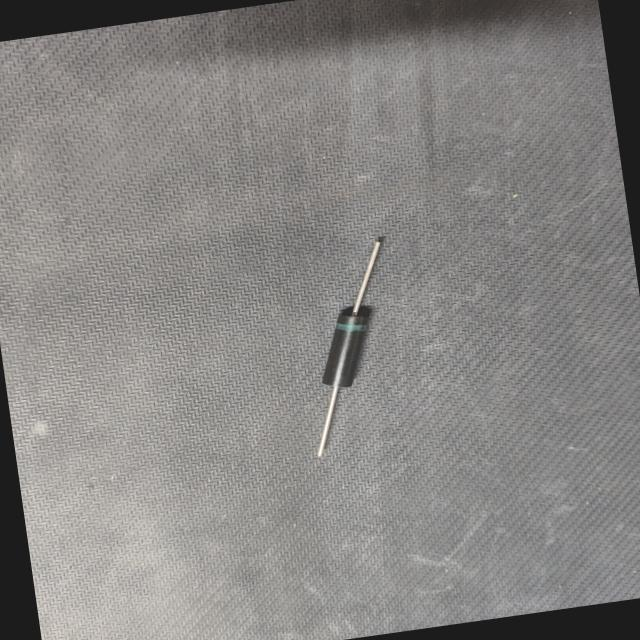resistor: (263, 224, 430, 467)
